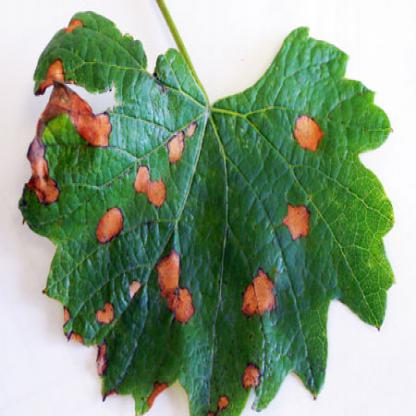grape leaf black rot: (15, 4, 397, 415)
